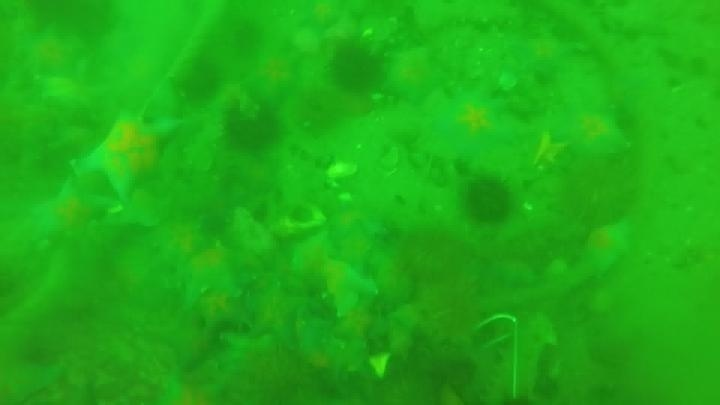echinus: (557, 158, 638, 229), (25, 1, 119, 44), (396, 228, 466, 285), (328, 41, 385, 95), (222, 105, 282, 154), (462, 176, 514, 226), (177, 59, 223, 106)
starfish: (75, 112, 180, 201), (433, 91, 517, 158), (29, 179, 109, 245), (178, 242, 252, 304), (553, 106, 630, 162), (244, 282, 309, 347), (312, 257, 378, 318), (379, 47, 446, 107), (17, 26, 87, 81), (242, 47, 305, 107), (509, 32, 580, 81), (580, 218, 636, 278), (191, 285, 254, 337), (152, 218, 214, 270), (155, 368, 228, 404), (326, 205, 382, 245), (296, 2, 345, 35)
